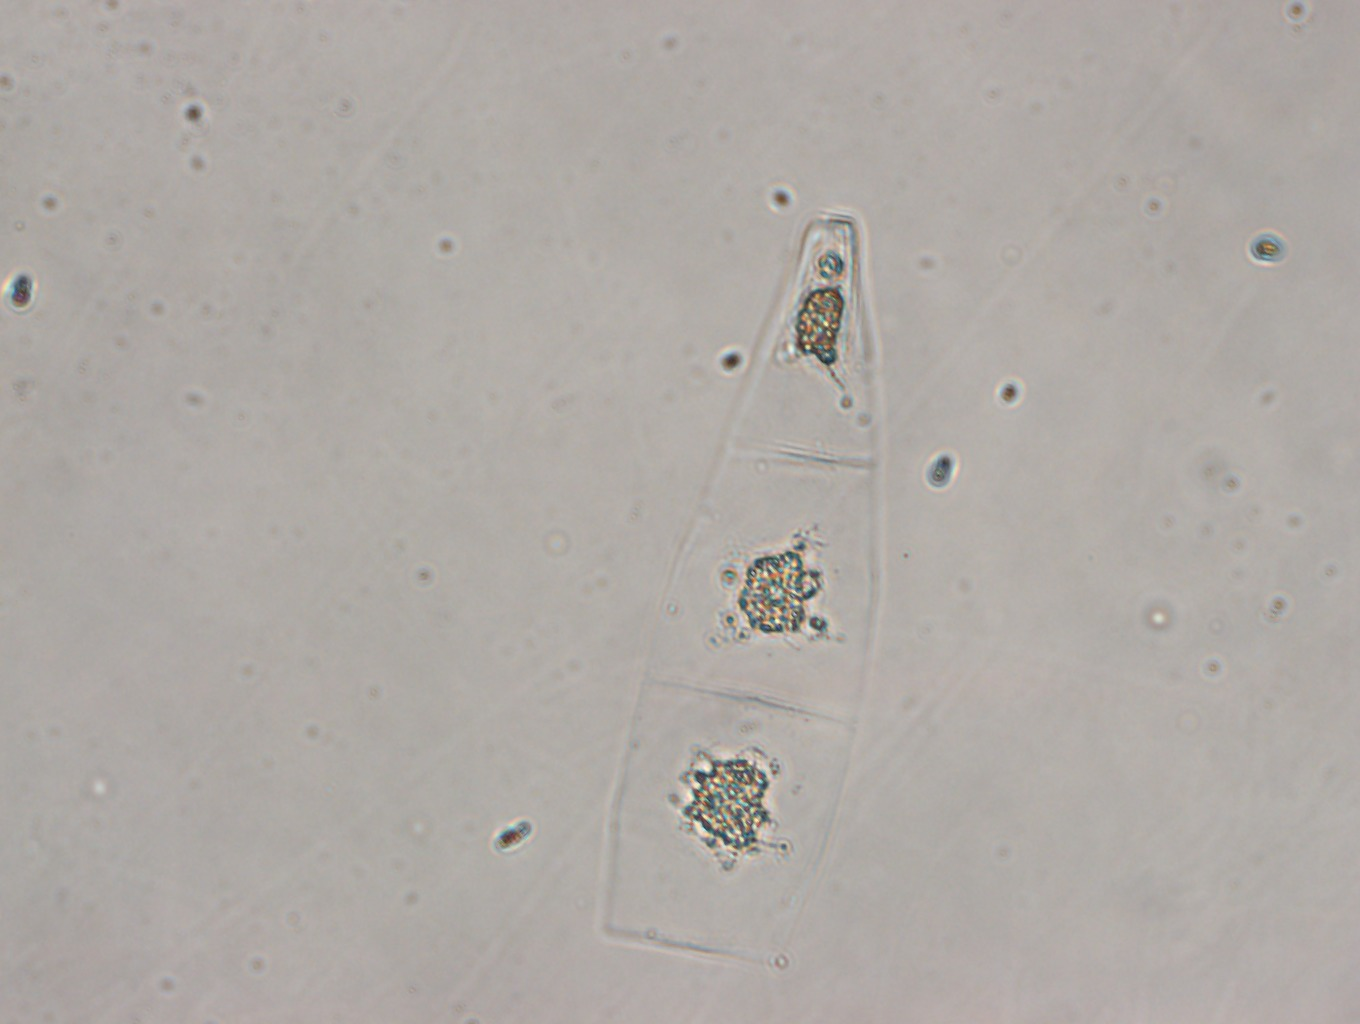helicotheca: (601, 210, 881, 979)
